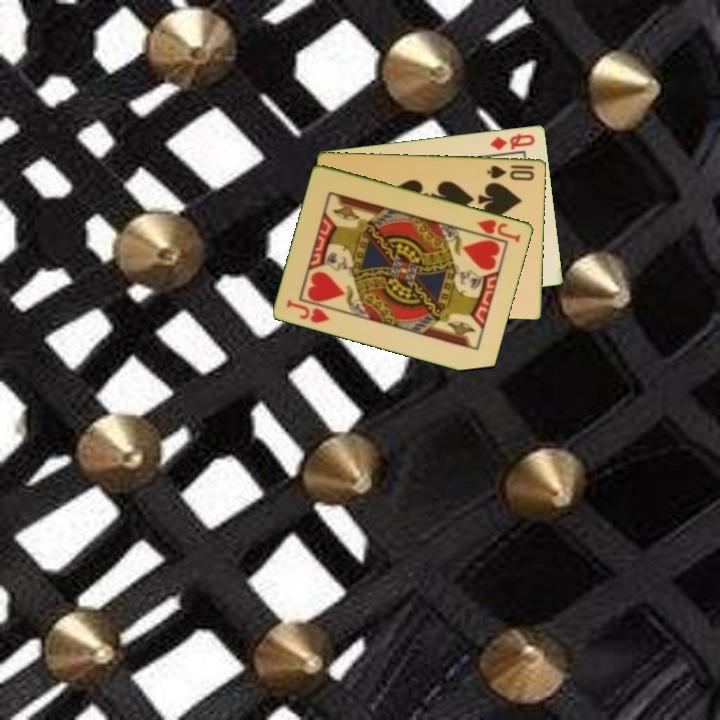10s: (484, 161, 538, 183)
Jh: (283, 295, 333, 326), (474, 215, 524, 245)
Qd: (487, 130, 538, 153)
